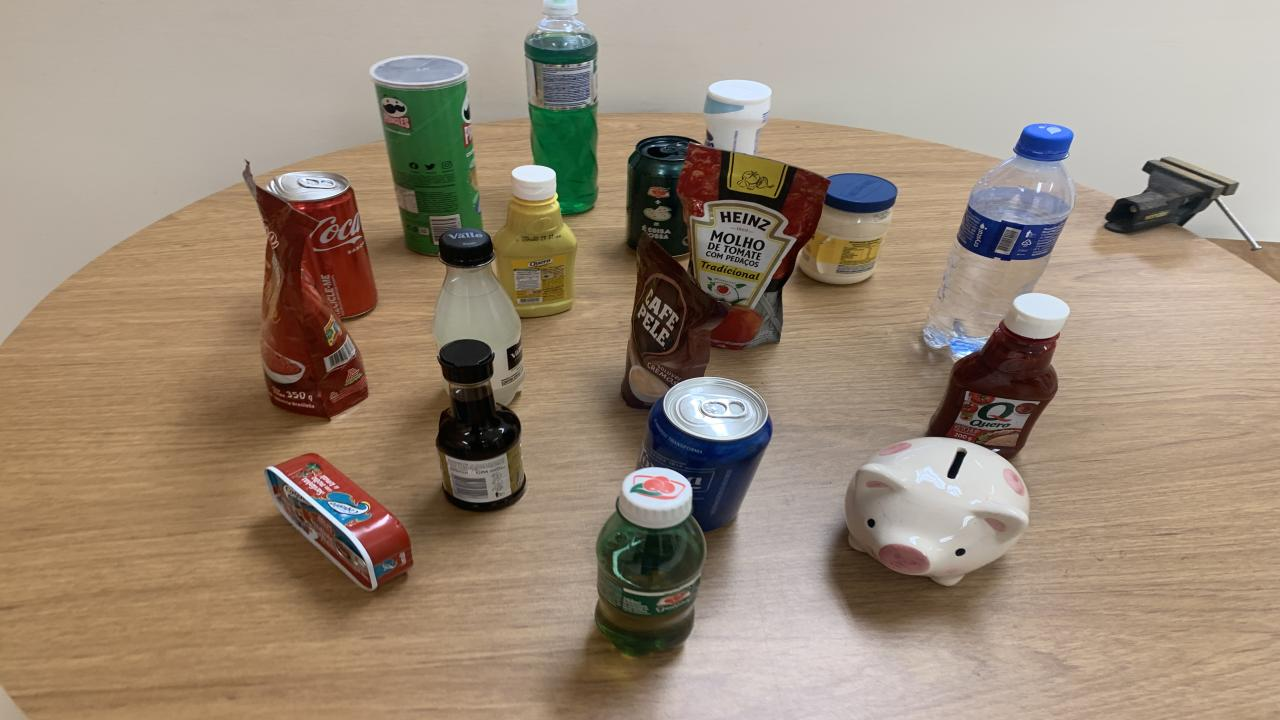Cleaner-Cleanup_Items: (702, 79, 770, 154)
Coffee-Pantry_Items: (620, 234, 730, 409)
Coke-Drinks: (268, 171, 378, 319)
Detergent-Cleanup_Items: (525, 0, 598, 214)
English_Sauce-Pantry_Items: (435, 339, 525, 512)
Guarana-Drinks: (595, 467, 705, 656)
Guarana_Can-Drinks: (628, 135, 695, 257)
Ketchup-Pantry_Items: (928, 292, 1070, 459)
Mayonnaise-Pantry_Items: (798, 172, 898, 285)
Mustard-Pantry_Items: (492, 165, 578, 317)
Pig_Safe-Miscellaneous: (845, 437, 1030, 585)
Pringles-Snacks: (370, 54, 482, 253)
Soda-Drinks: (432, 229, 525, 405)
Tomato_Sauce-Pantry_Items: (678, 144, 830, 351), (245, 167, 368, 418)
Tonic-Drinks: (638, 377, 772, 531)
Tuna_Can-Pantry_Items: (265, 454, 412, 591)
Water_Bottle-Drinks: (922, 124, 1075, 358)
